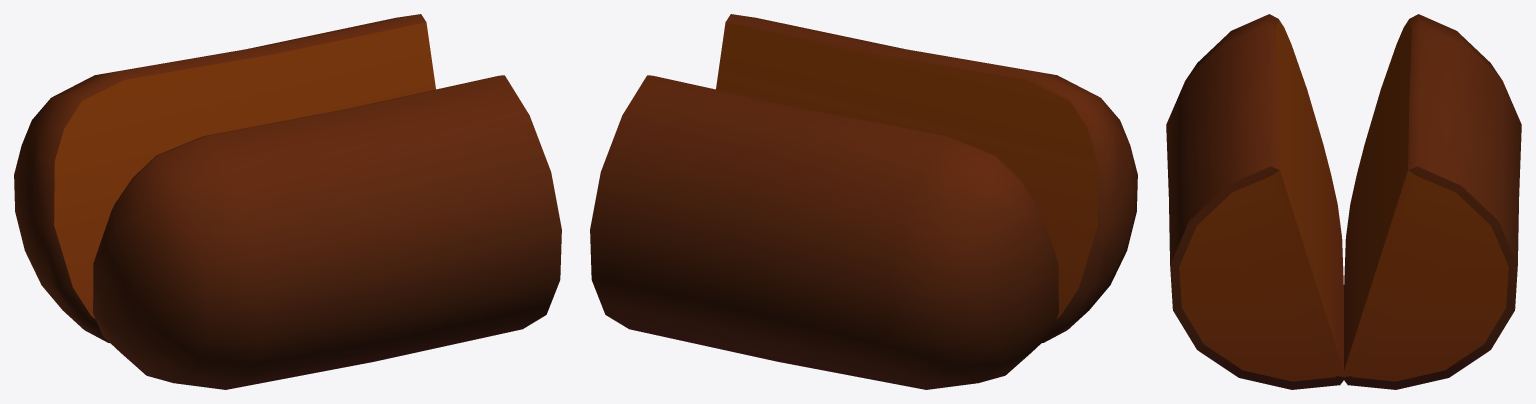
File: HotDog_bun_half.005.fbx
3 views of the same model, side by side, from view 1: azimuth 30°, elevation 25°; view 2: azimuth 150°, elevation 25°; view 3: azimuth 270°, elevation 25° (orthographic). The views are drawn at different scales.
Visible parts, largest first — view 1: HotDog_bun_half.005; view 2: HotDog_bun_half.005; view 3: HotDog_bun_half.005.
Boxes of the visible parts, x1,y1,x2,y2 form: HotDog_bun_half.005: [14, 14, 561, 389]; HotDog_bun_half.005: [590, 14, 1137, 389]; HotDog_bun_half.005: [1166, 14, 1521, 389].
Size of the model in its own units: 76.52 by 67.97 by 49.74.
